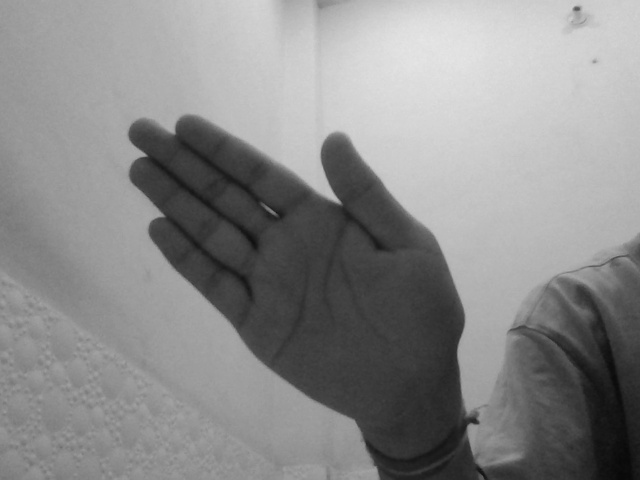Hello: (122, 116, 471, 428)
